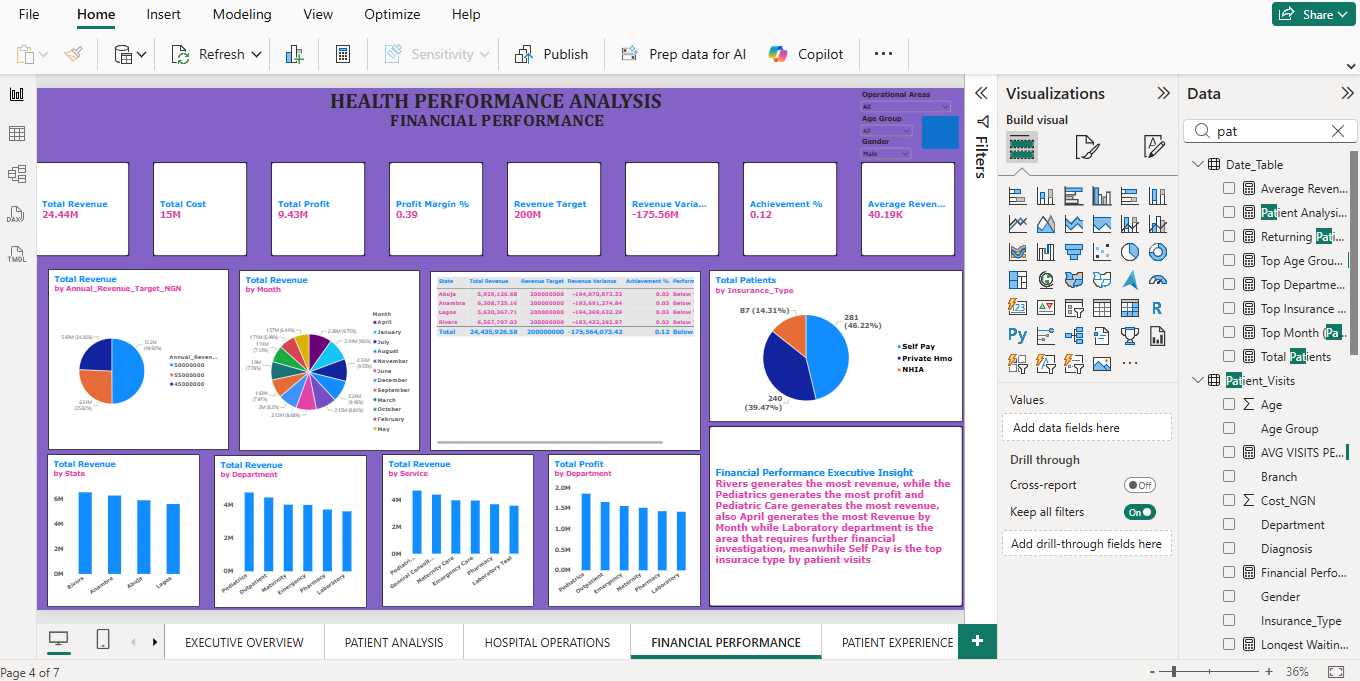

What the dashboard file says about the page in this screenshot:
{"tool":"powerbi","page":{"name":"FINANCIAL PERFORMANCE","canvas":[2560,1440],"ordinal":3},"visuals":[{"type":"clusteredColumnChart","fields":{"Category":["Patient_Visits.State"],"Y":["Date_Table.Total Revenue"]},"box":[27.6,1011.3,421.2,421.2],"z":0},{"type":"clusteredColumnChart","fields":{"Category":["Patient_Visits.Department"],"Y":["Date_Table.Total Revenue"]},"box":[489.6,1014.1,421.2,421.2],"z":1000},{"type":"clusteredColumnChart","fields":{"Category":["Patient_Visits.Service"],"Y":["Date_Table.Total Revenue"]},"box":[951.6,1011.3,418.4,421.2],"z":2000},{"type":"clusteredColumnChart","fields":{"Category":["Patient_Visits.Department"],"Y":["Date_Table.Total Profit"]},"box":[1410.9,1011.3,421.2,421.2],"z":3000},{"type":"pieChart","fields":{"Category":["Date_Table.Month"],"Y":["Date_Table.Total Revenue"]},"box":[558.2,501.5,500,500],"z":4000},{"type":"pieChart","fields":{"Category":["State_Targets.Annual_Revenue_Target_NGN"],"Y":["Date_Table.Total Revenue"]},"box":[30.7,498.8,500,500],"z":5000},{"type":"actionButton","box":[2444.3,77.2,102,90.9],"z":6000},{"type":"cardVisual","fields":{"Data":["Date_Table.Total Revenue"]},"box":[-6.7,204.9,260,260],"z":7000},{"type":"cardVisual","fields":{"Data":["Date_Table.Total Cost"]},"box":[319.2,204.9,260,260],"z":8000},{"type":"cardVisual","fields":{"Data":["Date_Table.Total Profit"]},"box":[645,204.9,260,260],"z":9000},{"type":"cardVisual","fields":{"Data":["Patient_Visits.Profit Margin %"]},"box":[970.9,204.9,260,260],"z":10000},{"type":"cardVisual","fields":{"Data":["State_Targets.Revenue Target"]},"box":[1296.8,204.9,260,260],"z":11000},{"type":"cardVisual","fields":{"Data":["State_Targets.Revenue Variance"]},"box":[1622.7,204.9,260,260],"z":12000},{"type":"cardVisual","fields":{"Data":["State_Targets.Achievement"]},"box":[1948.6,204.9,260,260],"z":13000},{"type":"cardVisual","fields":{"Data":["Date_Table.Average Revenue Per Patient"]},"box":[2274.4,204.9,260,260],"z":14000},{"type":"textbox","box":[809.7,0,940.7,77.3],"z":15000},{"type":"textbox","box":[974.5,57.8,613.8,93.6],"z":16000},{"type":"slicer","fields":{"Values":["Patient_Visits.Age Group"]},"box":[2270.7,71.6,151.6,148.8],"z":17000},{"type":"slicer","fields":{"Values":["Patient_Visits.Gender"]},"box":[2270.7,135,148.8,148.8],"z":18000},{"type":"cardVisual","fields":{"Data":["Patient_Visits.Financial Performance Executive Insight"]},"box":[1854.6,934.2,700,498.8],"z":19000},{"type":"tableEx","fields":{"Values":["Patient_Visits.State","Date_Table.Total Revenue","State_Targets.Revenue Target","State_Targets.Revenue Variance","State_Targets.Achievement %","Date_Table.Performance Status"]},"box":[1085.7,504.3,746.8,496],"z":20000},{"type":"pieChart","fields":{"Category":["Patient_Visits.Insurance_Type"],"Y":["Date_Table.Total Patients"]},"box":[1854.6,501.5,700,420],"z":21000},{"type":"slicer","fields":{"Values":["Patient_Visits.Operational Areas"]},"box":[2270.7,5.5,259,148.8],"z":22000}]}

Visuals, with their boxes on the page's 2560x1440 design canvas (x1, y1, x2, y2). These are canvas units, not pixel positions in the 1360x681 screenshot, which may show the page scaled, cropped or inside an application window:
clusteredColumnChart - Patient_Visits.State x Date_Table.Total Revenue: <bbox>28, 1011, 449, 1432</bbox>
clusteredColumnChart - Patient_Visits.Department x Date_Table.Total Revenue: <bbox>490, 1014, 911, 1435</bbox>
clusteredColumnChart - Patient_Visits.Service x Date_Table.Total Revenue: <bbox>952, 1011, 1370, 1432</bbox>
clusteredColumnChart - Patient_Visits.Department x Date_Table.Total Profit: <bbox>1411, 1011, 1832, 1432</bbox>
pieChart - Date_Table.Month x Date_Table.Total Revenue: <bbox>558, 502, 1058, 1002</bbox>
pieChart - State_Targets.Annual_Revenue_Target_NGN x Date_Table.Total Revenue: <bbox>31, 499, 531, 999</bbox>
actionButton: <bbox>2444, 77, 2546, 168</bbox>
cardVisual - Date_Table.Total Revenue: <bbox>-7, 205, 253, 465</bbox>
cardVisual - Date_Table.Total Cost: <bbox>319, 205, 579, 465</bbox>
cardVisual - Date_Table.Total Profit: <bbox>645, 205, 905, 465</bbox>
cardVisual - Patient_Visits.Profit Margin %: <bbox>971, 205, 1231, 465</bbox>
cardVisual - State_Targets.Revenue Target: <bbox>1297, 205, 1557, 465</bbox>
cardVisual - State_Targets.Revenue Variance: <bbox>1623, 205, 1883, 465</bbox>
cardVisual - State_Targets.Achievement: <bbox>1949, 205, 2209, 465</bbox>
cardVisual - Date_Table.Average Revenue Per Patient: <bbox>2274, 205, 2534, 465</bbox>
textbox: <bbox>810, 0, 1750, 77</bbox>
textbox: <bbox>974, 58, 1588, 151</bbox>
slicer - Patient_Visits.Age Group: <bbox>2271, 72, 2422, 220</bbox>
slicer - Patient_Visits.Gender: <bbox>2271, 135, 2420, 284</bbox>
cardVisual - Patient_Visits.Financial Performance Executive Insight: <bbox>1855, 934, 2555, 1433</bbox>
tableEx - Patient_Visits.State x Date_Table.Total Revenue: <bbox>1086, 504, 1832, 1000</bbox>
pieChart - Patient_Visits.Insurance_Type x Date_Table.Total Patients: <bbox>1855, 502, 2555, 922</bbox>
slicer - Patient_Visits.Operational Areas: <bbox>2271, 6, 2530, 154</bbox>
